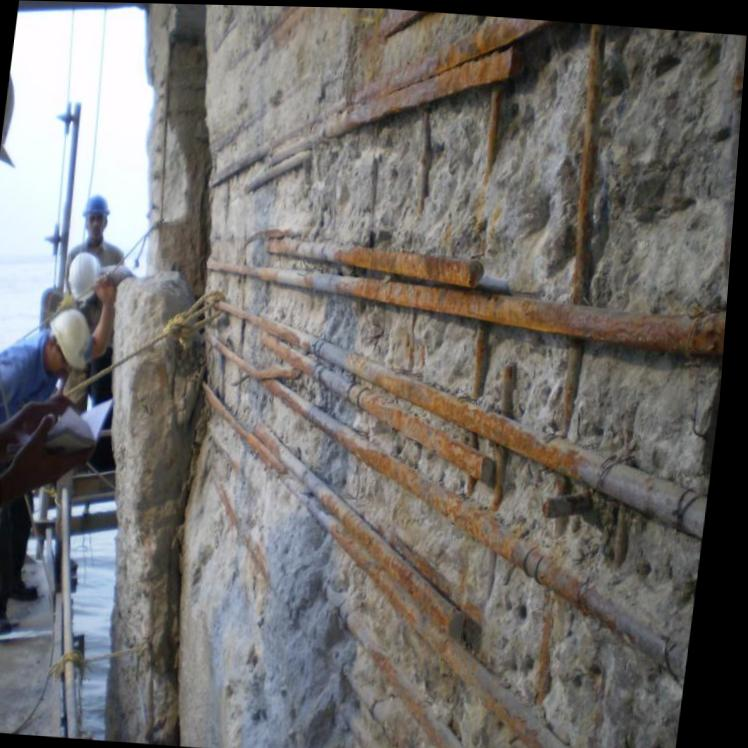damage: (184, 4, 747, 748)
